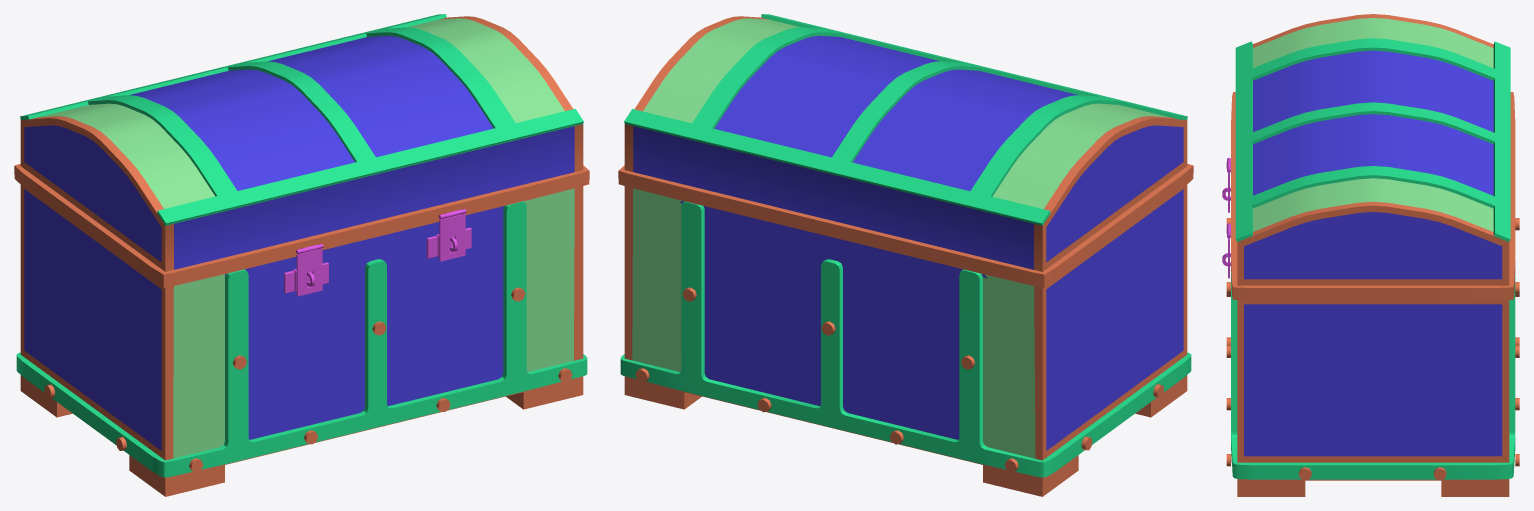
Rendered from Baul 2 with parent.fbx.
3 renders of one model, left to right at view 1: azimuth 30°, elevation 25°; view 2: azimuth 150°, elevation 25°; view 3: azimuth 270°, elevation 25°, orthographic. The views are drawn at different scales.
Visible parts, largest first — view 1: Baul 2, Cerradura parte plana, Cerradura parte plana.002; view 2: Baul 2; view 3: Baul 2.
Part boxes in pixels (<box>): Baul 2: <box>14,14,589,496</box>; Cerradura parte plana: <box>438,209,466,261</box>; Cerradura parte plana.002: <box>296,243,323,296</box>; Baul 2: <box>618,14,1193,496</box>; Baul 2: <box>1231,14,1515,496</box>.
Bounding box in the file's own units: 261 × 178 × 163.
